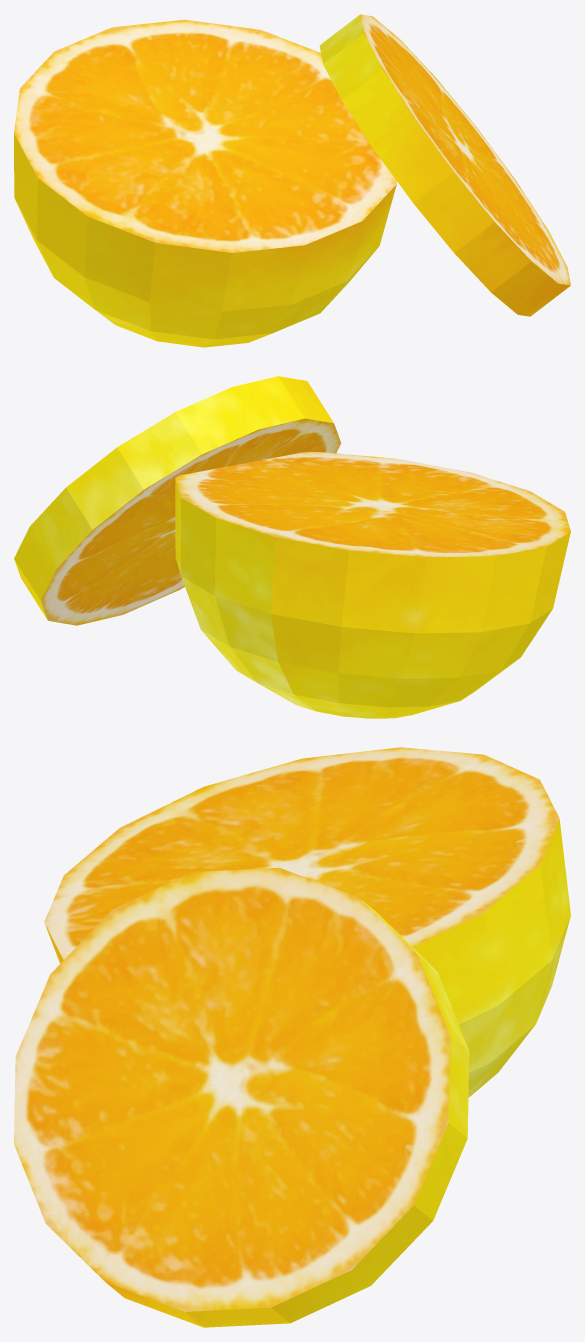
Rendered from orange.glb.
3 renders of one model, top to bottom at view 1: azimuth 30°, elevation 25°; view 2: azimuth 150°, elevation 25°; view 3: azimuth 270°, elevation 25°, orthographic. The views are drawn at different scales.
Visible parts, largest first — view 1: Cylinder_Material.001_0; view 2: Cylinder_Material.001_0; view 3: Cylinder_Material.001_0.
Boxes of the visible parts, x1,y1,x2,y2 form: Cylinder_Material.001_0: (14,14,570,347); Cylinder_Material.001_0: (14,376,570,718); Cylinder_Material.001_0: (14,747,570,1327).
Bounding box in the file's own units: 0.7816 × 0.4148 × 0.5633.
Materials: 1 (1 with a texture image).
